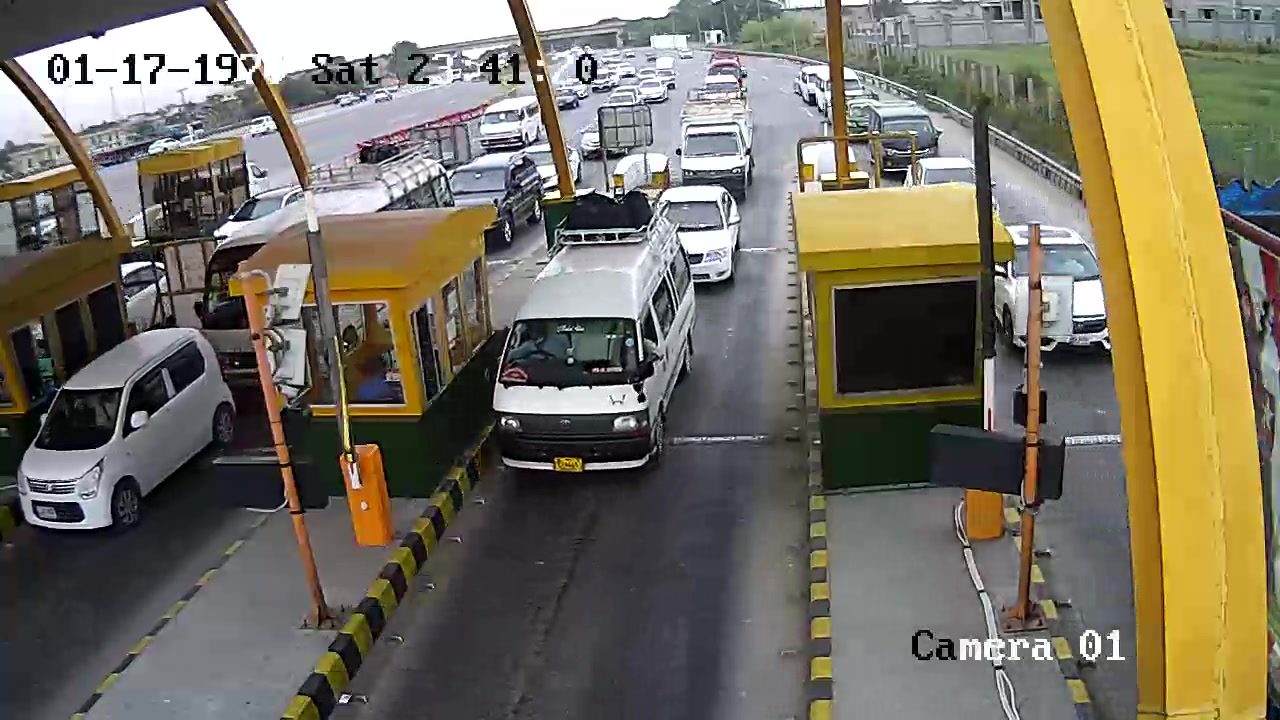F2: (490, 190, 698, 493)
